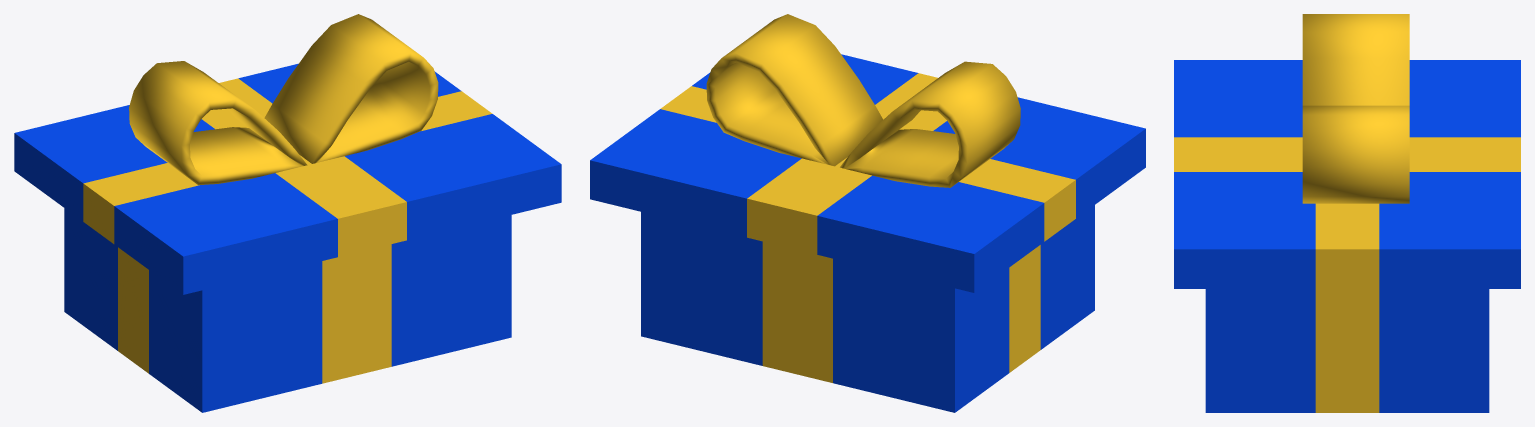
Rendered from REGALO 2.fbx.
The picture shows the model from 3 angles, left to right: view 1: azimuth 30°, elevation 25°; view 2: azimuth 150°, elevation 25°; view 3: azimuth 270°, elevation 25°; orthographic projection. The views are drawn at different scales.
Parts seen in each view (by area): view 1: Regalo 2; view 2: Regalo 2; view 3: Regalo 2.
Part boxes in pixels (x1=…): Regalo 2: x1=14, y1=14, x2=561, y2=412; Regalo 2: x1=590, y1=14, x2=1145, y2=412; Regalo 2: x1=1174, y1=14, x2=1520, y2=412.
Size of the model in its own units: 585 by 390 by 452.
